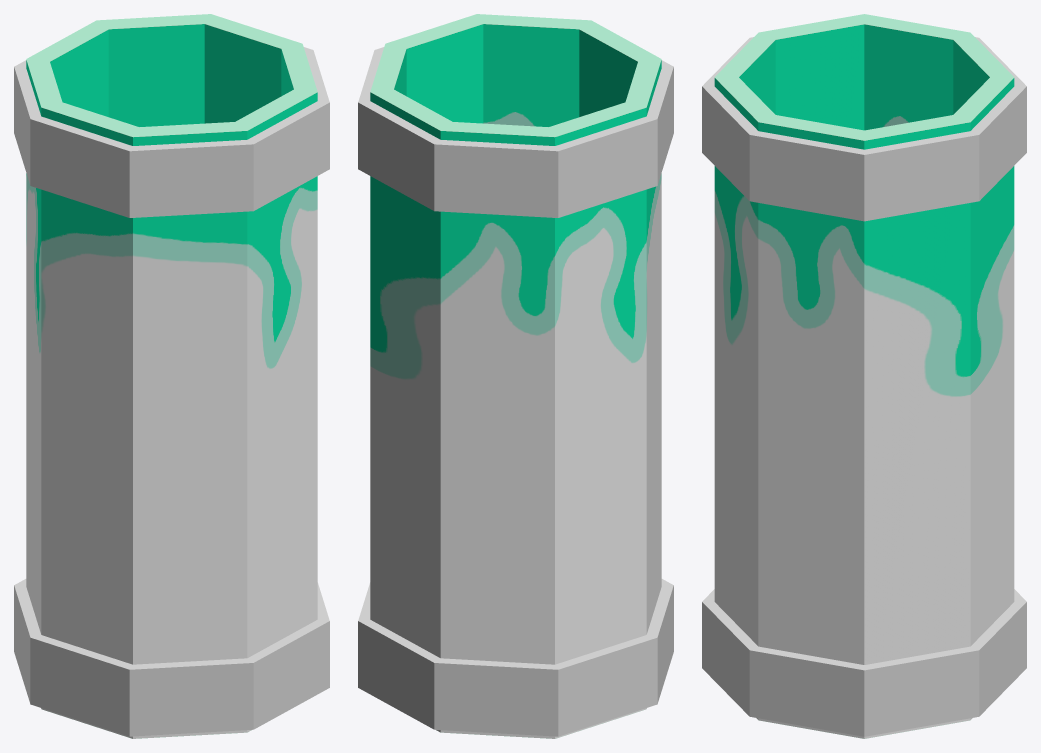
File: pipe.fbx
The picture shows the model from 3 angles, left to right: view 1: azimuth 30°, elevation 25°; view 2: azimuth 150°, elevation 25°; view 3: azimuth 270°, elevation 25°; orthographic projection.
Parts seen in each view (by area): view 1: polySurface3; view 2: polySurface3; view 3: polySurface3.
Part boxes in pixels (x1,y1,x2,y2): polySurface3: (14, 14, 329, 738); polySurface3: (358, 14, 673, 738); polySurface3: (702, 14, 1026, 738).
Size of the model in its own units: 6.46 by 13.12 by 6.46.
Materials: 2 (1 with a texture image).
